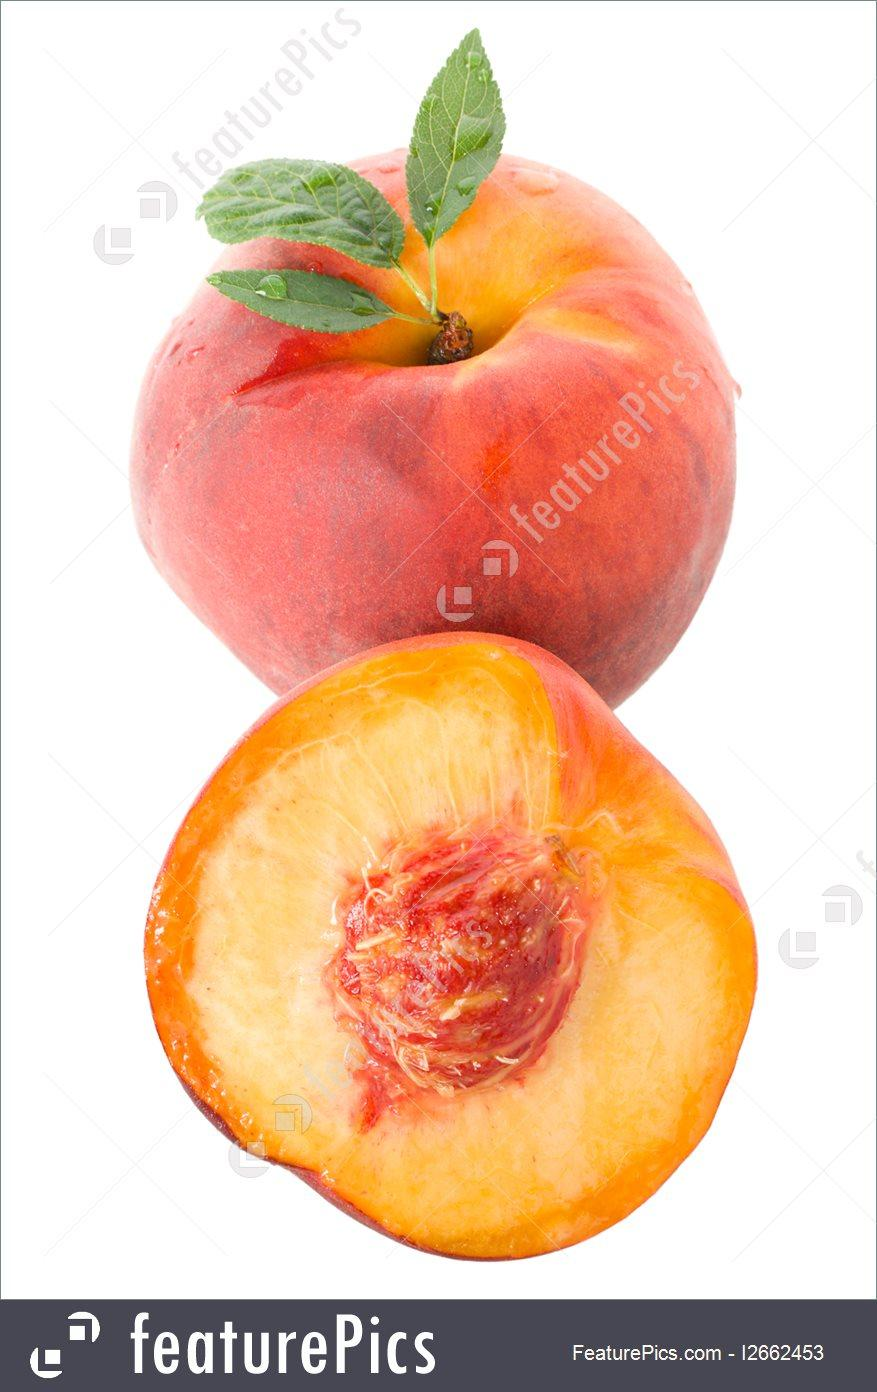Peach leaf: (406, 16, 518, 252), (201, 155, 416, 276), (208, 253, 403, 357)
